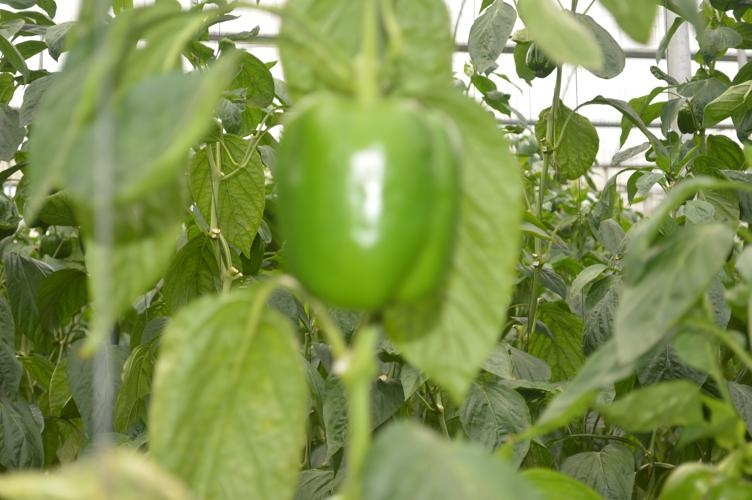BellPepper: (272, 97, 457, 312)
